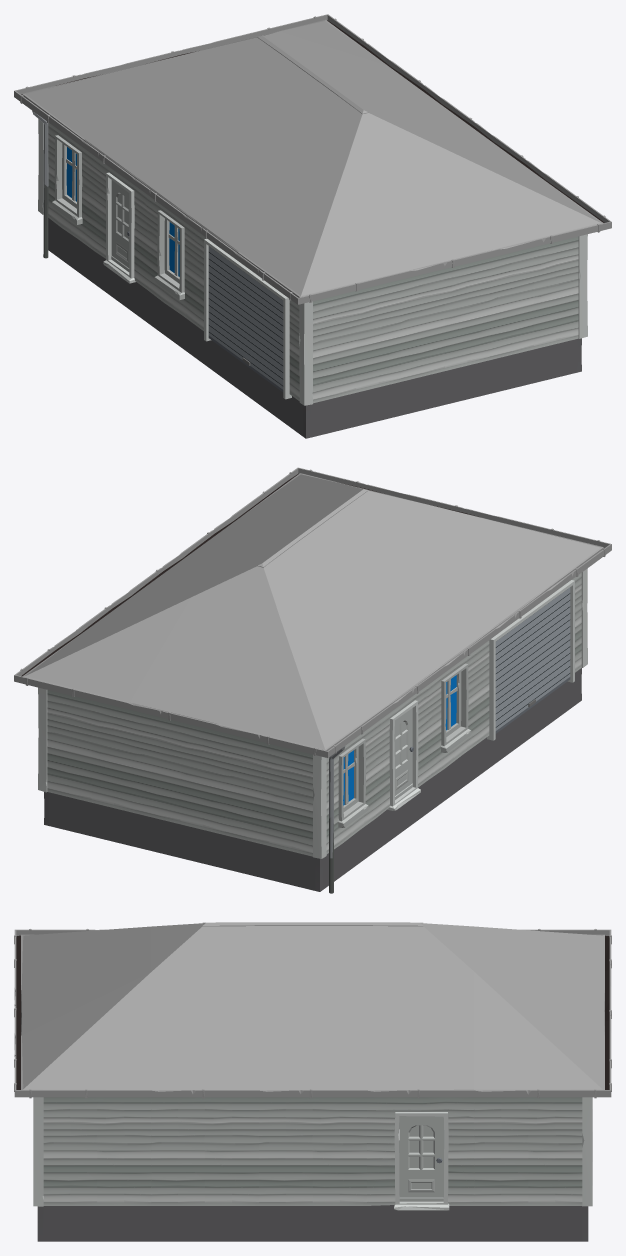
File: SM_Bld_House_Preset_05.fbx
3 renders of one model, top to bottom at view 1: azimuth 30°, elevation 25°; view 2: azimuth 150°, elevation 25°; view 3: azimuth 270°, elevation 25°, orthographic. The views are drawn at different scales.
Visible parts, largest first — view 1: SM_Bld_House_Preset_05; view 2: SM_Bld_House_Preset_05; view 3: SM_Bld_House_Preset_05.
Boxes of the visible parts, left/top/right/bottom form: SM_Bld_House_Preset_05: left=14, top=14, right=611, bottom=438; SM_Bld_House_Preset_05: left=14, top=467, right=611, bottom=893; SM_Bld_House_Preset_05: left=14, top=922, right=611, bottom=1241.
Bounding box in the file's own units: 887 × 647 × 1387.
